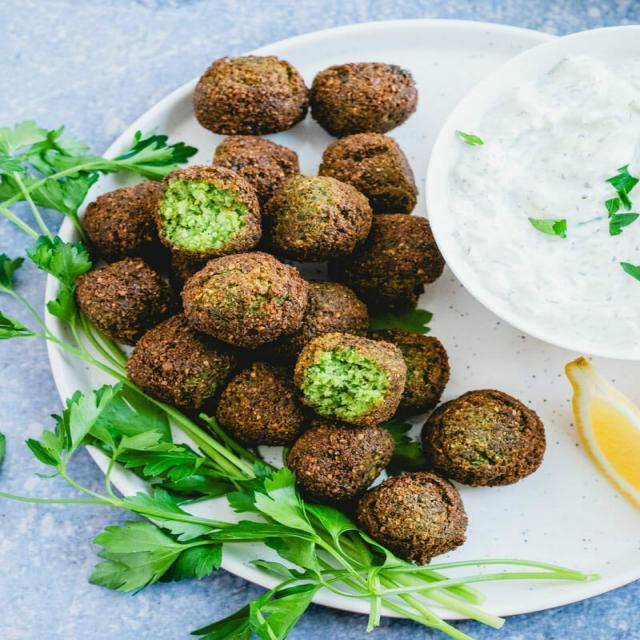flafel: (173, 250, 311, 344), (420, 387, 546, 484), (290, 331, 409, 426), (343, 474, 473, 560), (156, 164, 265, 256), (191, 51, 309, 133), (311, 62, 422, 137)
